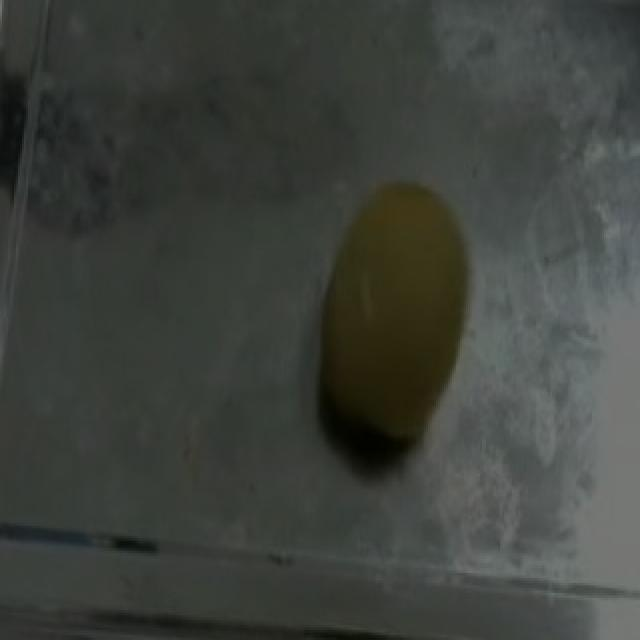Fruit: (288, 168, 496, 474)
